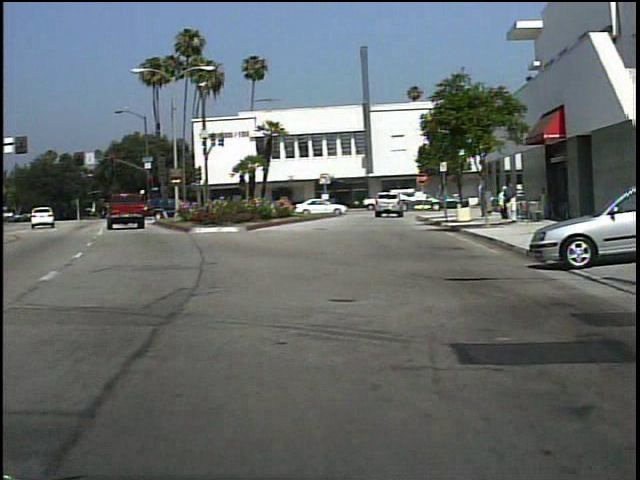person: (503, 182, 520, 224), (370, 190, 391, 219), (535, 184, 548, 222), (494, 184, 506, 220)
